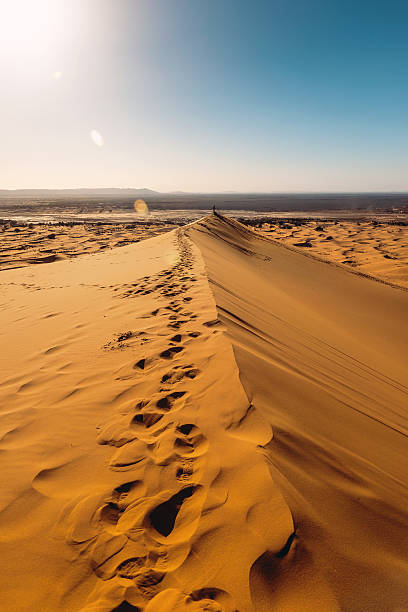human_foot_print: (89, 261, 212, 611), (92, 484, 205, 608), (145, 587, 238, 611), (161, 364, 200, 386)
